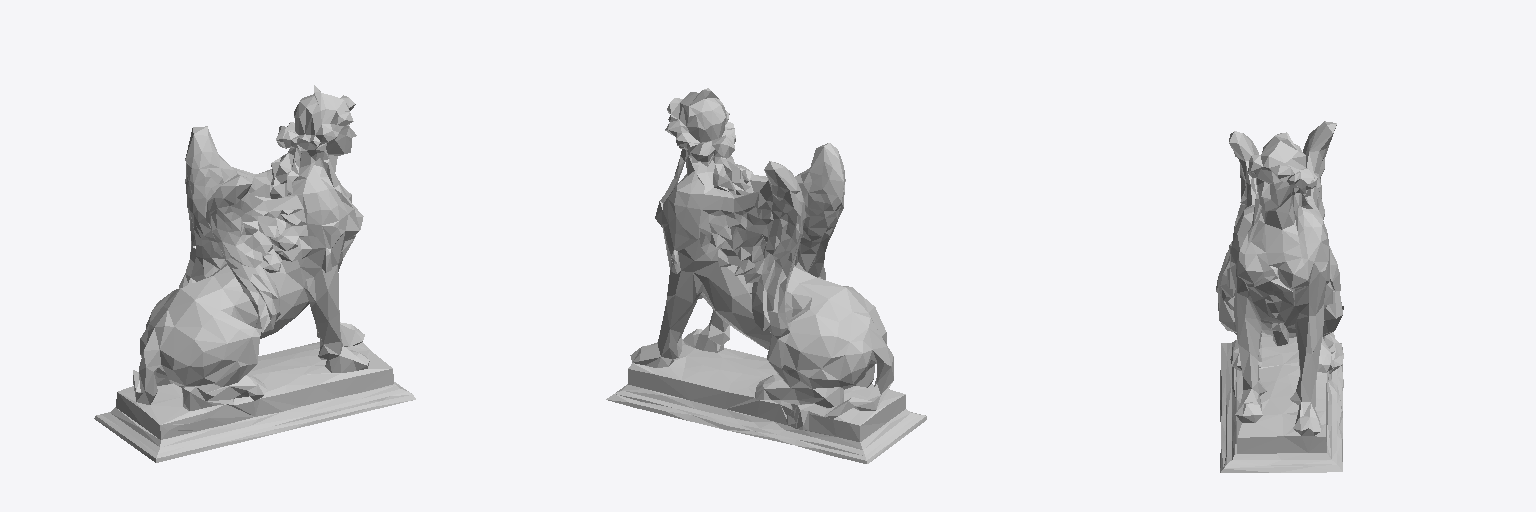
Rendered from statue_01.obj.
The picture shows the model from 3 angles: view 1: azimuth 30°, elevation 25°; view 2: azimuth 150°, elevation 25°; view 3: azimuth 270°, elevation 25°; orthographic projection.
Visible parts, largest first — view 1: Object_4.001; view 2: Object_4.001; view 3: Object_4.001.
Boxes of the visible parts, x1=… form: Object_4.001: x1=94, y1=85, x2=415, y2=462; Object_4.001: x1=606, y1=88, x2=926, y2=463; Object_4.001: x1=1216, y1=121, x2=1343, y2=472.
Bounding box in the file's own units: 1.63 × 1.84 × 0.6963.